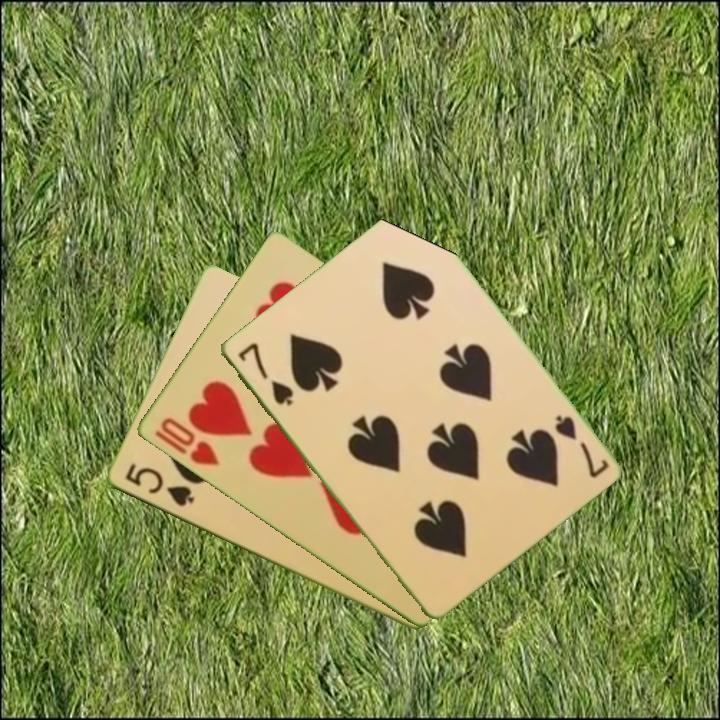10h: (156, 413, 222, 469)
5s: (120, 460, 197, 510)
7s: (233, 339, 296, 409), (551, 411, 612, 481)
